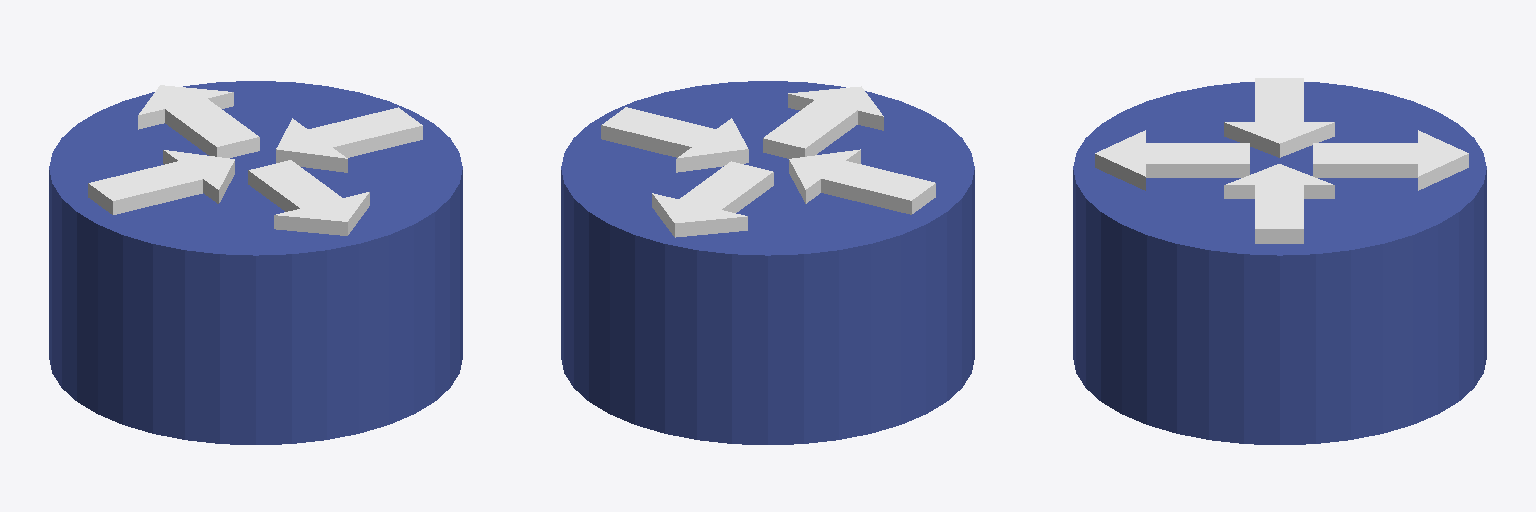
The model's file is heneiluyouqi.obj.
3 renders of one model, left to right at view 1: azimuth 30°, elevation 25°; view 2: azimuth 150°, elevation 25°; view 3: azimuth 270°, elevation 25°, orthographic.
Parts seen in each view (by area): view 1: heneiluyouqi; view 2: heneiluyouqi; view 3: heneiluyouqi.
Boxes of the visible parts, x1=… form: heneiluyouqi: x1=49, y1=81, x2=462, y2=444; heneiluyouqi: x1=561, y1=81, x2=974, y2=444; heneiluyouqi: x1=1073, y1=78, x2=1486, y2=444.
Size of the model in its own units: 49.8 by 27.1 by 49.8.